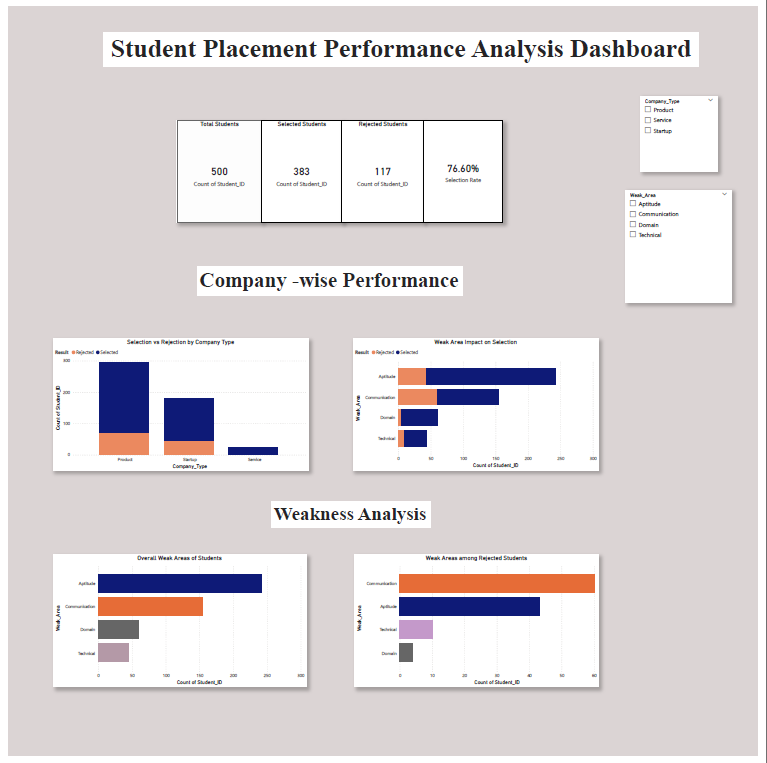

The page's visual inventory and layout, read from the dashboard file:
{"tool":"powerbi","page":{"name":"Page 1","canvas":[2100,2100],"ordinal":0},"visuals":[{"type":"card","title":"Total Students","fields":{"Values":["CountNonNull(Sheet1.Student_ID)"]},"box":[472.4,318.5,236.2,286.3],"z":0},{"type":"card","title":"Selected Students","fields":{"Values":["CountNonNull(Sheet1.Student_ID)"]},"box":[708.6,318.5,225.5,286.3],"z":1000},{"type":"card","title":"Rejected Students","fields":{"Values":["CountNonNull(Sheet1.Student_ID)"]},"box":[934.1,318.5,229,286.3],"z":2000},{"type":"clusteredBarChart","title":"Overall Weak Areas of Students","fields":{"Category":["Sheet1.Weak_Area"],"Y":["CountNonNull(Sheet1.Student_ID)"]},"box":[125.3,1535.3,708.6,372.2],"z":3000},{"type":"columnChart","title":"Selection vs Rejection by Company Type","fields":{"Category":["Sheet1.Company_Type"],"Y":["CountNonNull(Sheet1.Student_ID)"],"Series":["Sheet1.Result"]},"box":[125,930,715,370],"z":4000},{"type":"clusteredBarChart","title":"Weak Areas among Rejected Students","fields":{"Category":["Sheet1.Weak_Area"],"Y":["CountNonNull(Sheet1.Student_ID)"]},"box":[969.8,1535.3,683.5,372.2],"z":5000},{"type":"slicer","fields":{"Values":["Sheet1.Company_Type"]},"box":[1771.5,250.5,214.7,211.1],"z":6000},{"type":"slicer","fields":{"Values":["Sheet1.Weak_Area"]},"box":[1728.5,515.3,297,314.9],"z":7000},{"type":"card","fields":{"Values":["Sheet1.Selection Rate"]},"box":[1163.1,318.5,221.9,286.3],"z":8000},{"type":"barChart","title":"Weak Area Impact on Selection","fields":{"Category":["Sheet1.Weak_Area"],"Y":["CountNonNull(Sheet1.Student_ID)"],"Series":["Sheet1.Result"]},"box":[966.3,930.5,687.1,368.6],"z":9000},{"type":"textbox","box":[266,72,1668,96],"z":10000},{"type":"textbox","box":[530,728,742,82],"z":11000},{"type":"textbox","box":[738,1386,444,74],"z":12000}]}

Visuals, with their boxes in screenshot pixels (x1, y1, x2, y2), scaled from the page's 2100x2100 canvas onto the 767x763 screenshot:
"Total Students" card: (173, 116, 259, 220)
"Selected Students" card: (259, 116, 341, 220)
"Rejected Students" card: (341, 116, 425, 220)
"Overall Weak Areas of Students" clusteredBarChart: (46, 558, 305, 693)
"Selection vs Rejection by Company Type" columnChart: (46, 338, 307, 472)
"Weak Areas among Rejected Students" clusteredBarChart: (354, 558, 604, 693)
slicer - Sheet1.Company_Type: (647, 91, 725, 168)
slicer - Sheet1.Weak_Area: (631, 187, 740, 302)
card - Sheet1.Selection Rate: (425, 116, 506, 220)
"Weak Area Impact on Selection" barChart: (353, 338, 604, 472)
textbox: (97, 26, 706, 61)
textbox: (194, 265, 465, 294)
textbox: (270, 504, 432, 530)
